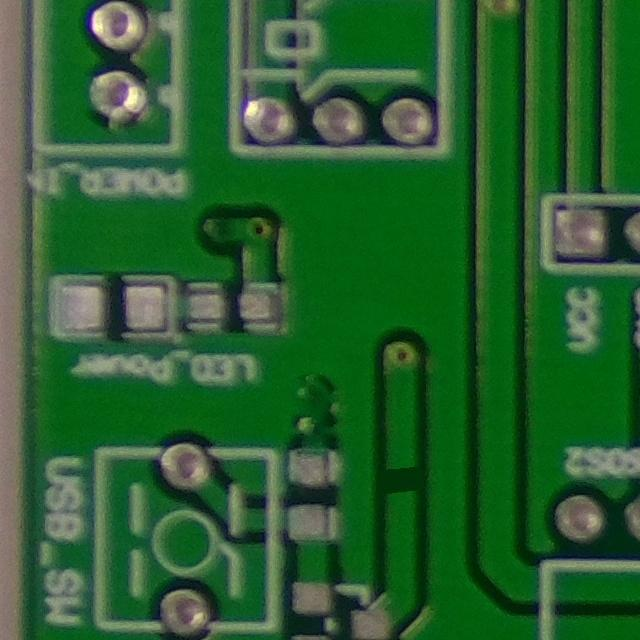open_circuit: (379, 453, 423, 509)
